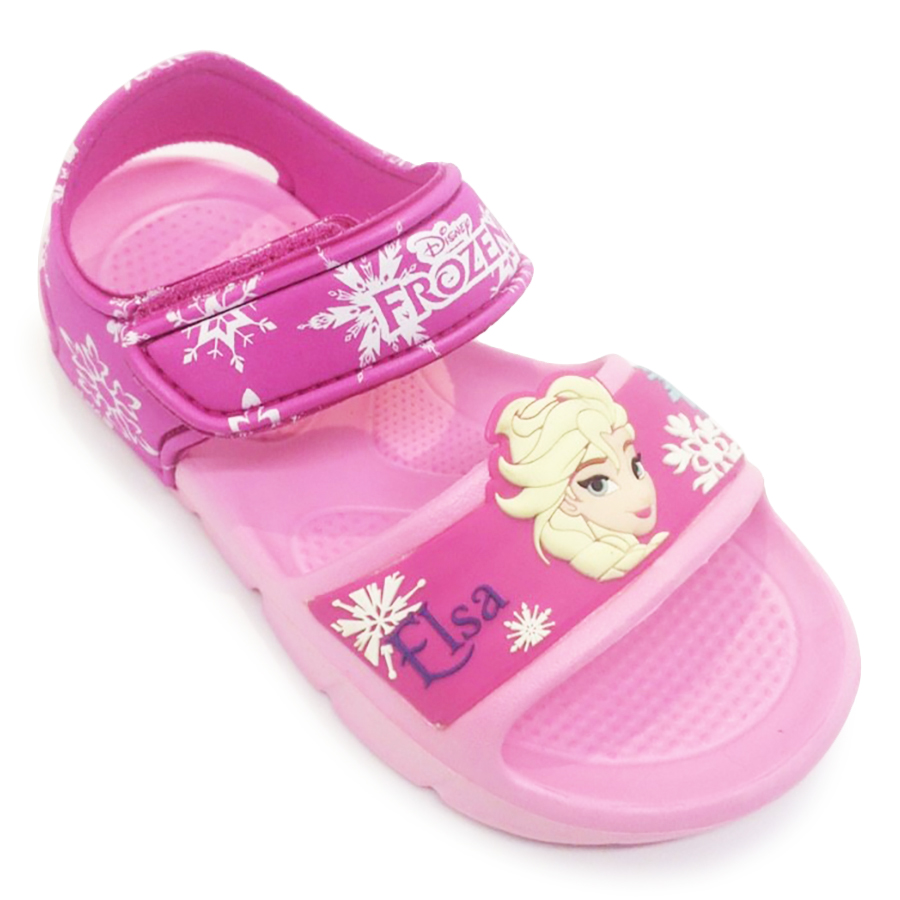Disney: (407, 209, 480, 264)
